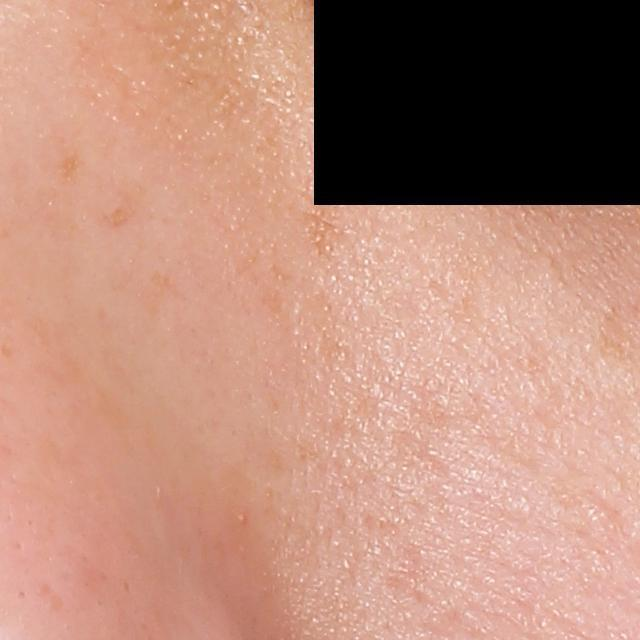melasma: (296, 190, 345, 270), (97, 186, 138, 229), (55, 142, 81, 186)
